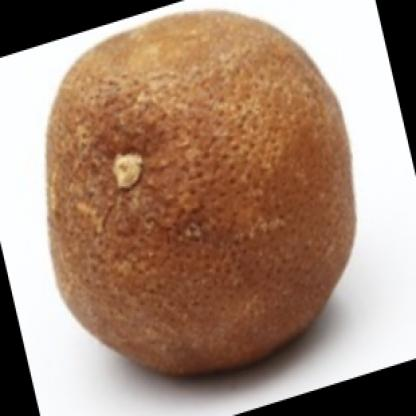rotten_orange: (31, 7, 360, 383)
